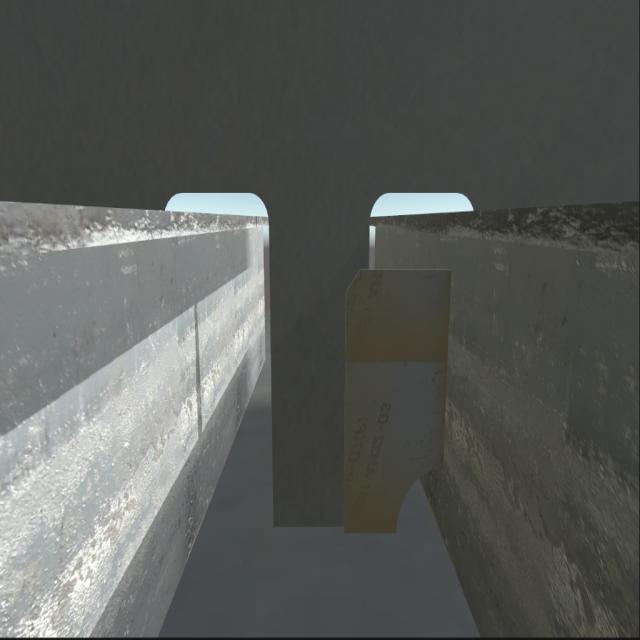fillet_hole: (391, 470, 441, 537)
fillet_yong_jeop_jang: (268, 520, 407, 546)
longi_yong_jeop_jang: (429, 263, 453, 476)
plate_CP03: (343, 269, 455, 538)
